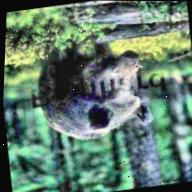boar: (16, 26, 161, 154)
